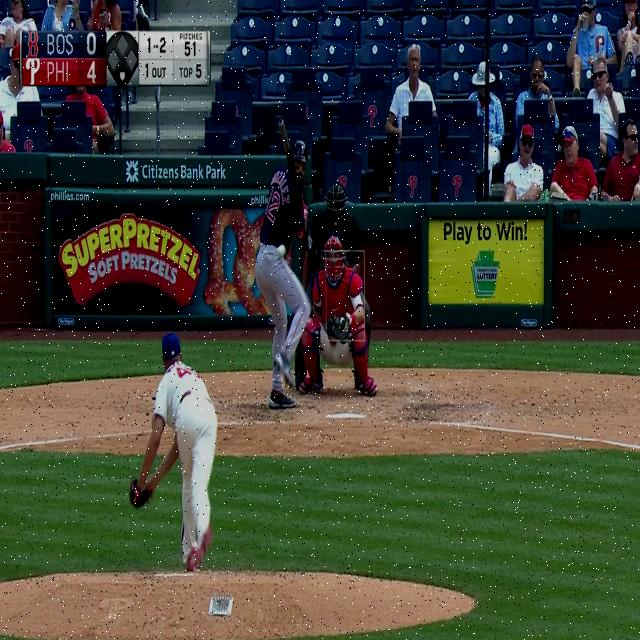baseball: (277, 244, 286, 258)
